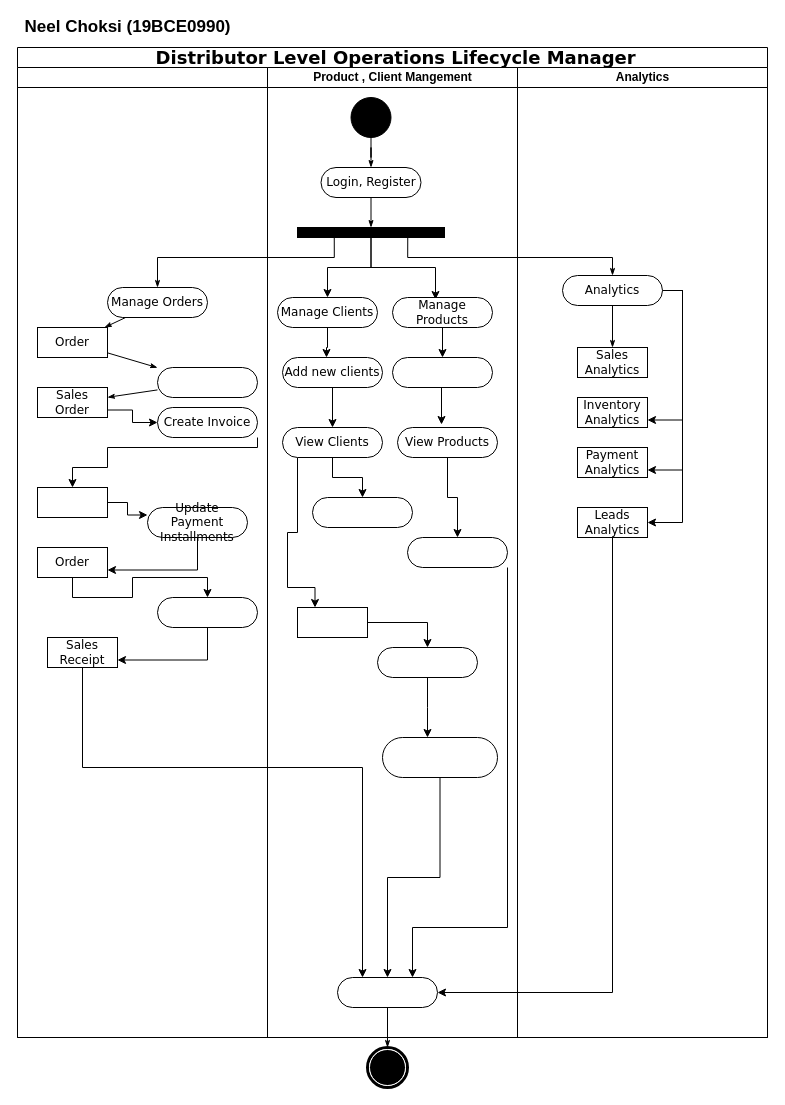
Some shapes in this 785 by 1105 pixel diagram are drawn without their labels. The shapes that lost their labels are listed below. From the top down, each one's box as (x1, y1, x2, y2) in pixels, then its label:
(156, 366, 258, 398): Create Sales Order
(392, 356, 492, 388): Add new products
(36, 486, 108, 518): Invoice
(312, 496, 412, 528): Update , Delete Clients
(16, 66, 268, 1038): Order Generation
(406, 536, 508, 568): Update inventory
(156, 596, 258, 628): Create Sales Receipt
(296, 606, 368, 638): Lead Tracking
(376, 646, 478, 678): Input Client Details
(382, 736, 498, 778): Input Client Interests, details of meeting
(336, 976, 438, 1008): Logout
